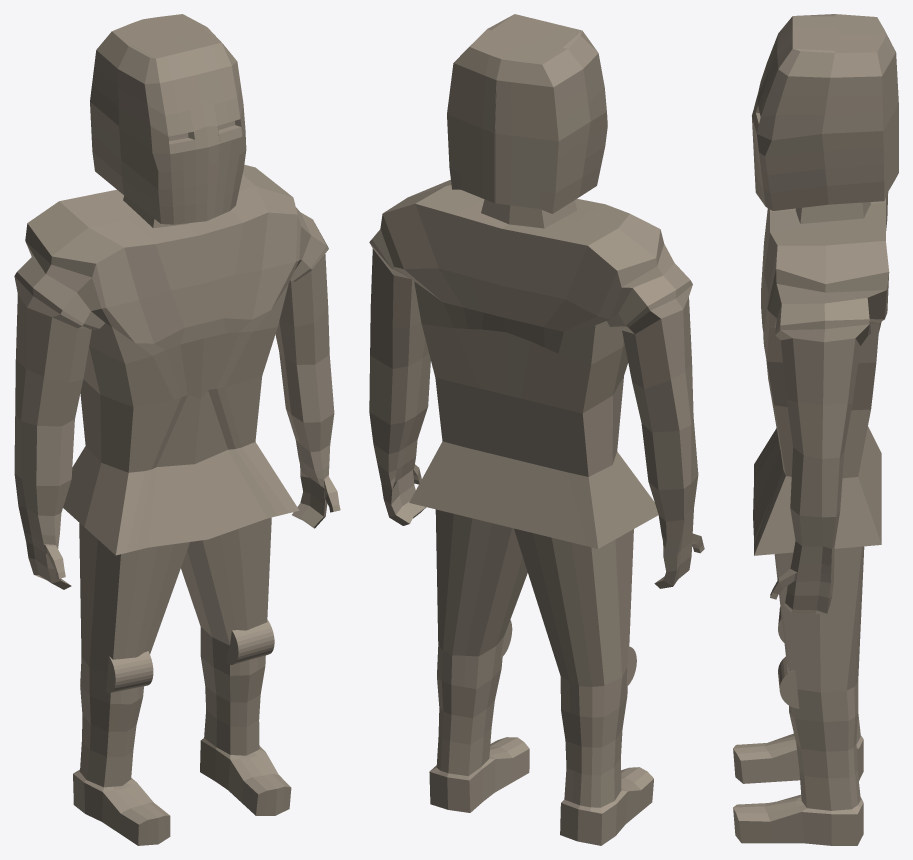
The model's file is StaticKnight.fbx.
The picture shows the model from 3 angles, left to right: view 1: azimuth 30°, elevation 25°; view 2: azimuth 150°, elevation 25°; view 3: azimuth 270°, elevation 25°; orthographic projection. The views are drawn at different scales.
Parts seen in each view (by area): view 1: Torso, Legs, Helm; view 2: Torso, Legs, Helm, Neck; view 3: Torso, Helm, Legs, Neck.
Boxes of the visible parts, left/top/right/bottom form: Torso: left=14, top=164, right=340, bottom=589; Legs: left=73, top=517, right=291, bottom=845; Helm: left=90, top=14, right=246, bottom=224; Torso: left=369, top=179, right=704, bottom=588; Legs: left=429, top=509, right=653, bottom=845; Helm: left=447, top=14, right=607, bottom=213; Neck: left=481, top=199, right=577, bottom=228; Torso: left=753, top=192, right=889, bottom=614; Helm: left=752, top=14, right=898, bottom=210; Legs: left=733, top=546, right=864, bottom=845; Neck: left=795, top=202, right=870, bottom=223.
Size of the model in its own units: 244 by 577 by 112.
